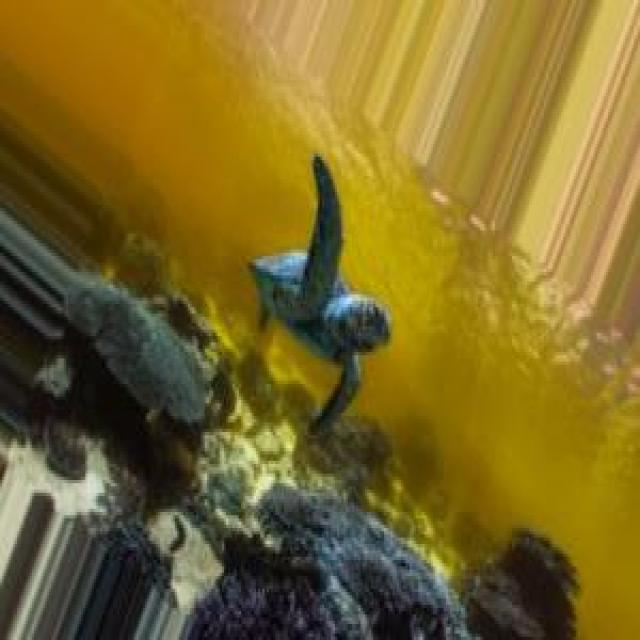Healthy: (187, 492, 489, 640), (69, 279, 202, 413), (460, 536, 582, 637)
